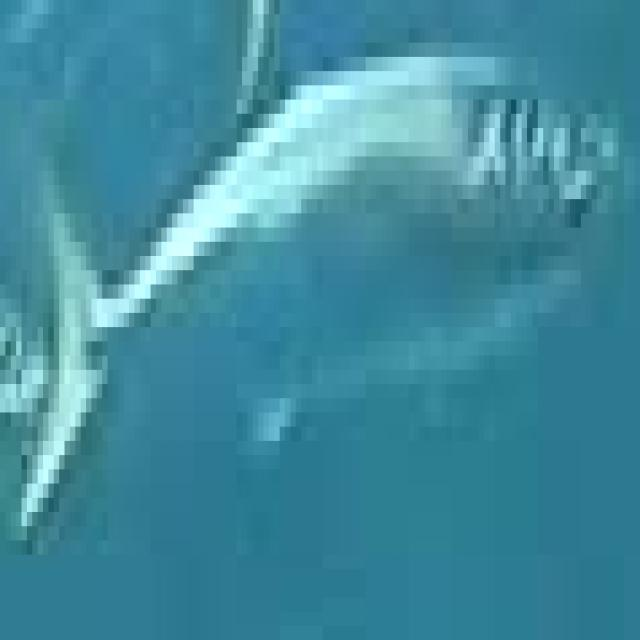fish: (0, 14, 635, 640)
